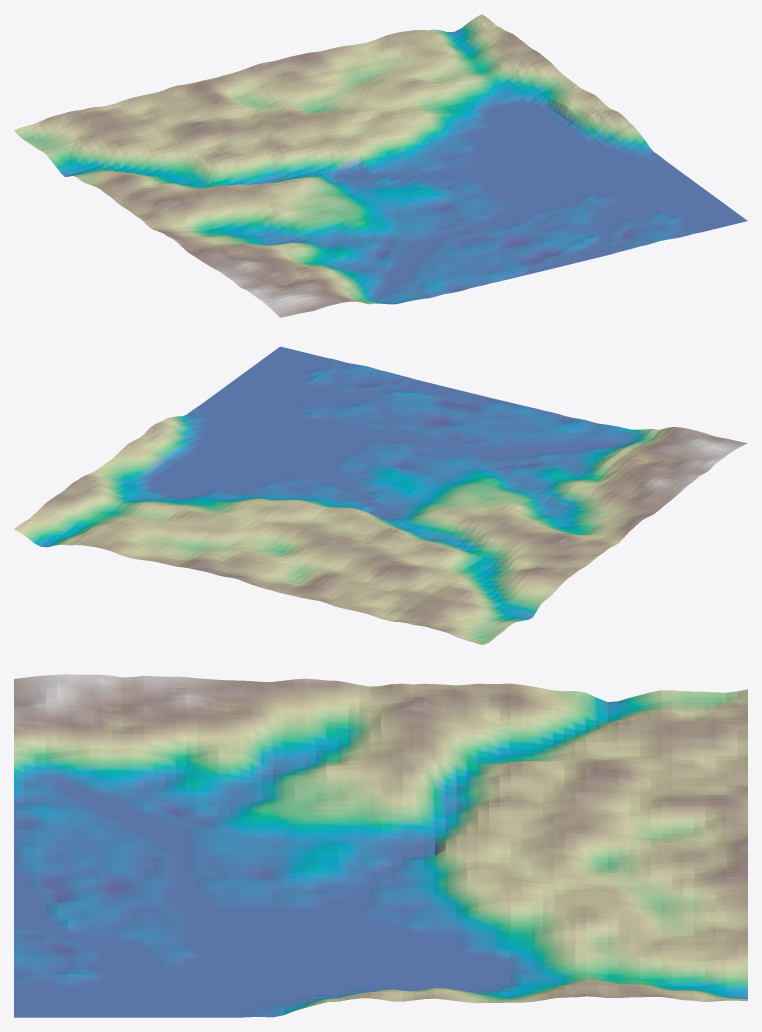
The model's file is 002834_terrain_only.glb.
3 renders of one model, top to bottom at view 1: azimuth 30°, elevation 25°; view 2: azimuth 150°, elevation 25°; view 3: azimuth 270°, elevation 25°, orthographic. The views are drawn at different scales.
Visible parts, largest first — view 1: terrain; view 2: terrain; view 3: terrain.
Part boxes in pixels (box(x1,y1,x2,y2)): terrain: box(14, 14, 747, 317); terrain: box(14, 346, 747, 645); terrain: box(14, 674, 747, 1017).
Bounding box in the file's own units: 0.0186 × 0.000836 × 0.0183.
